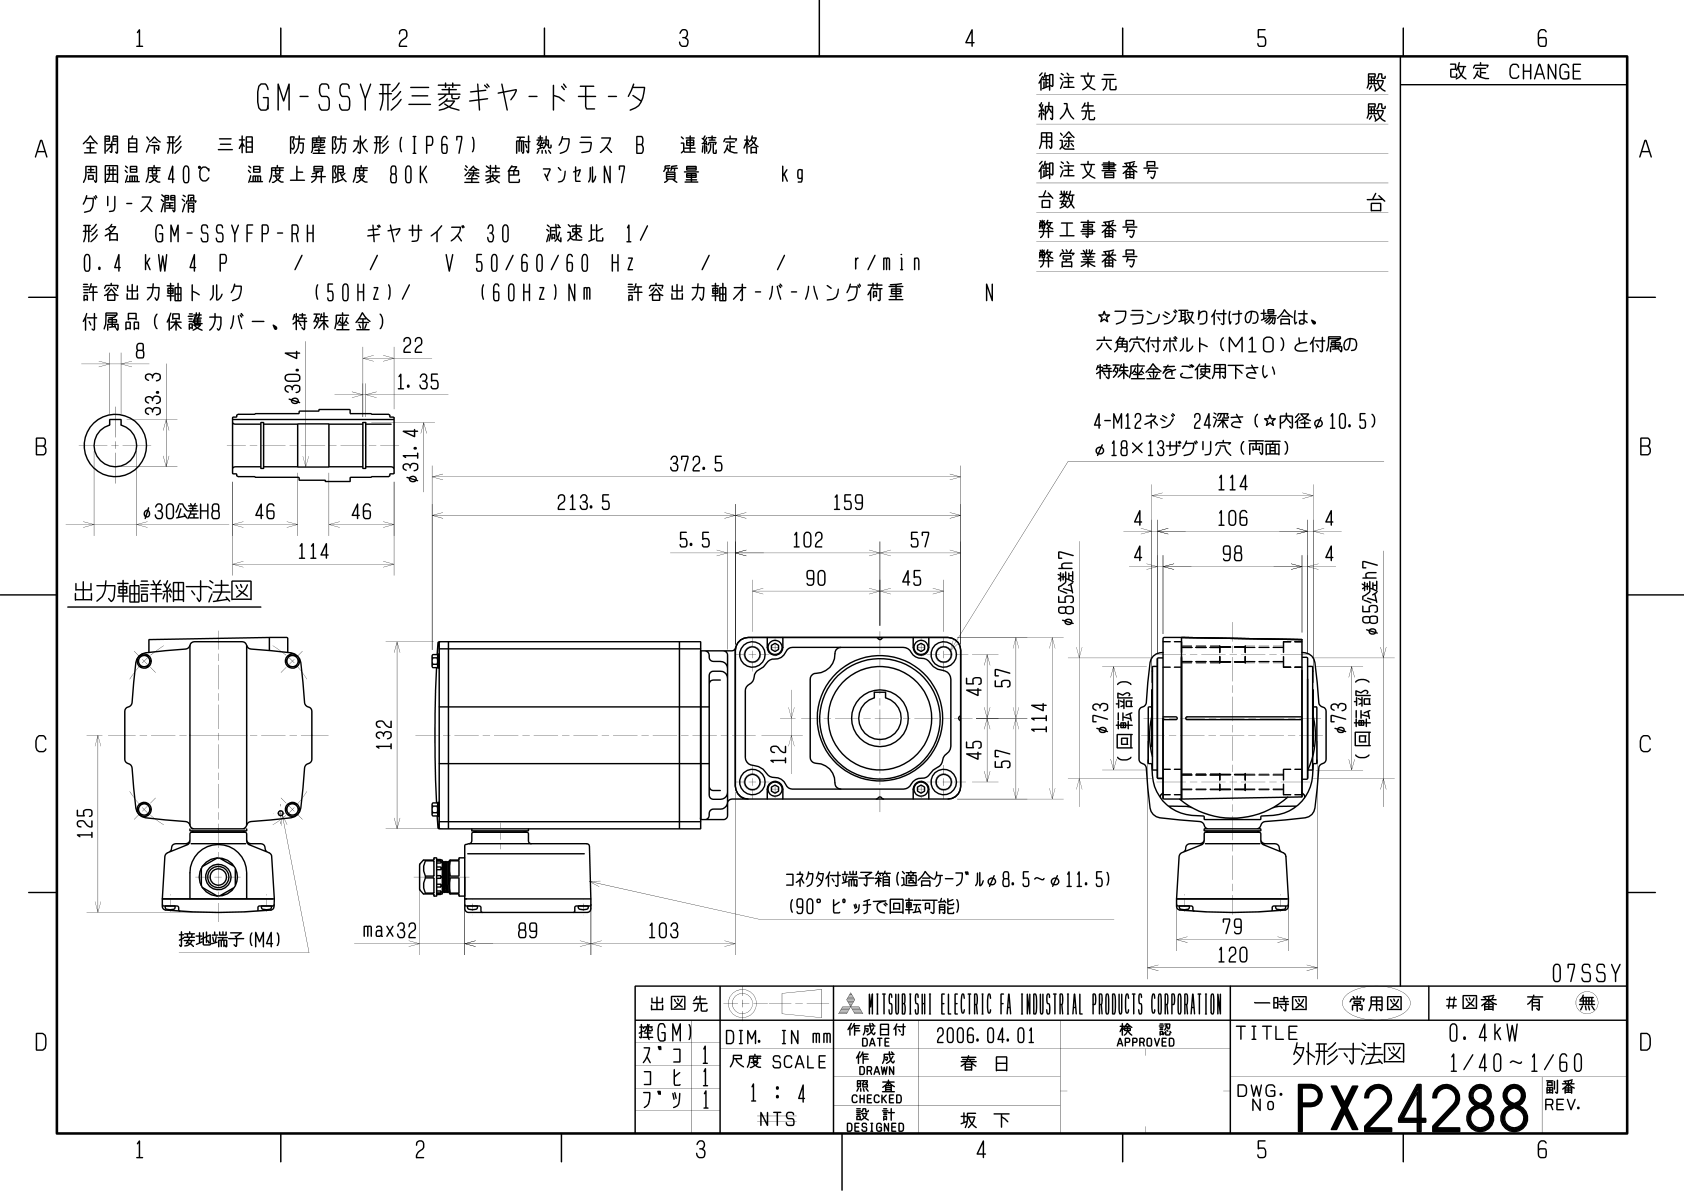GM_SSY_IP67_三相: (12, 5, 1684, 1191)
